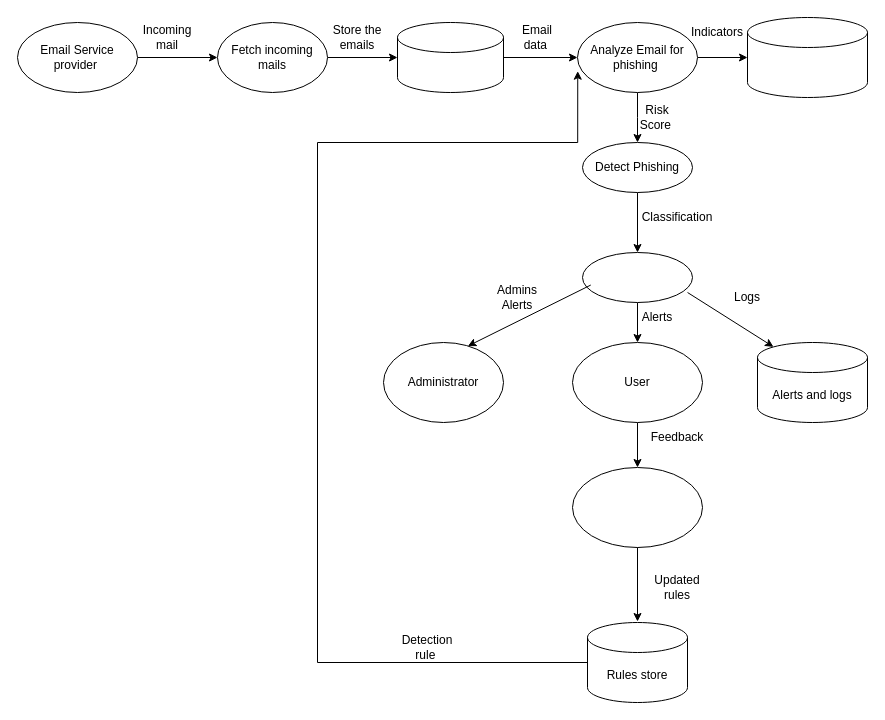
Image size: 885x720. Some labels were removed from this diagram. The box of each missing label's shape, as (x1, y1, x2, y2) in pixels:
Email database: (396, 22, 504, 92)
Indicator store: (746, 16, 868, 98)
Learn from the feedback: (572, 466, 702, 548)
Mitigation and Response: (582, 252, 692, 302)
